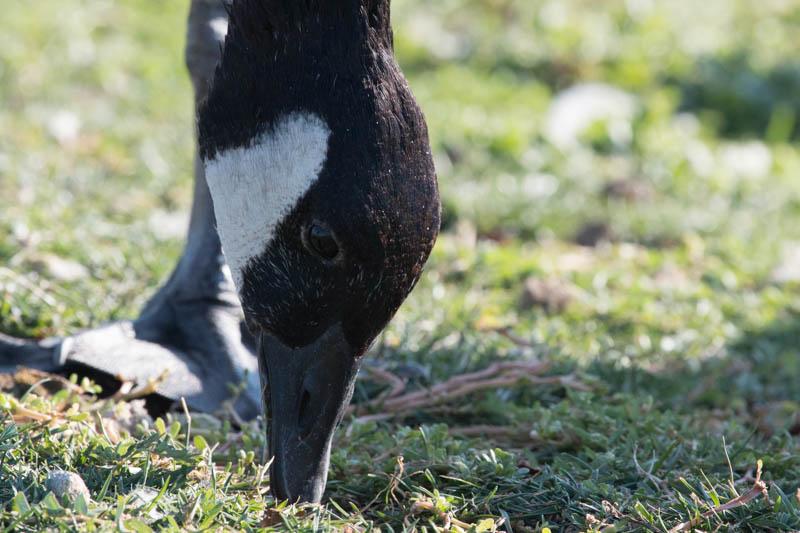goose-head: (199, 55, 442, 515)
